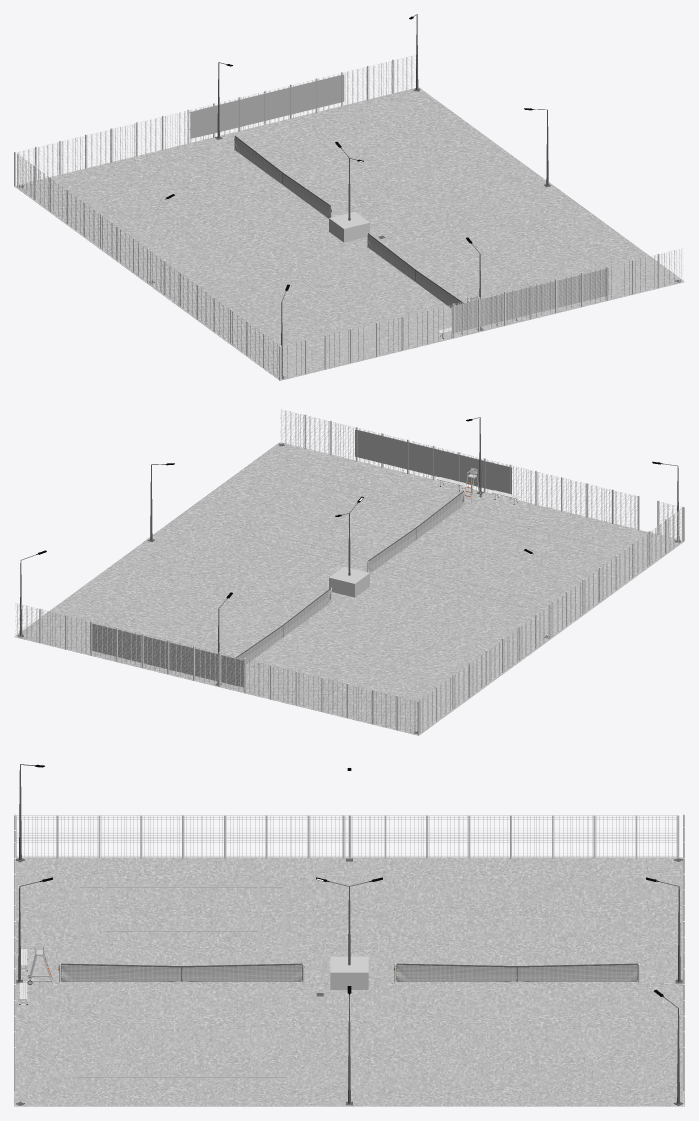
The model's file is tennis-court.gltf.
The picture shows the model from 3 angles, top to bottom: view 1: azimuth 30°, elevation 25°; view 2: azimuth 150°, elevation 25°; view 3: azimuth 270°, elevation 25°; orthographic projection. The views are drawn at different scales.
Visible parts, largest first — view 1: Plane.005, Plane.001, Cube.009, Cube.008, Plane.009, Plane.010, Cube.011, Cube.012, Plane.004, Cube.017, Cube.006, Cube.004 (+8 smaller); view 2: Plane.001, Plane.005, Cube.012, Plane.010, Plane.009, Cube.011, Plane.004, Cube.009, Cube.008, Cube.017, Cube.006, Cube.004 (+8 smaller); view 3: Plane.005, Plane.001, Cube.016, Cube.004, NurbsPath.001, NurbsPath.005, Plane.004, Cube.006, Cube.017, Center Lamppost, Cube.015, Cube.014 (+1 smaller).
Boxes of the visible parts, x1=… form: Plane.005: x1=14, y1=87, x2=551, y2=283; Plane.001: x1=147, y1=182, x2=684, y2=380; Cube.009: x1=329, y1=249, x2=681, y2=366; Cube.008: x1=327, y1=248, x2=683, y2=367; Plane.009: x1=190, y1=74, x2=344, y2=138; Plane.010: x1=451, y1=268, x2=608, y2=333; Cube.011: x1=61, y1=55, x2=418, y2=173; Cube.012: x1=62, y1=55, x2=416, y2=174; Plane.004: x1=219, y1=214, x2=611, y2=350; Cube.017: x1=20, y1=156, x2=146, y2=281; Cube.006: x1=150, y1=252, x2=277, y2=377; Cube.004: x1=148, y1=250, x2=279, y2=377; Plane.001: x1=144, y1=442, x2=684, y2=638; Plane.005: x1=14, y1=539, x2=551, y2=735; Cube.012: x1=17, y1=604, x2=371, y2=722; Plane.010: x1=355, y1=429, x2=511, y2=494; Plane.009: x1=90, y1=623, x2=243, y2=687; Cube.011: x1=15, y1=603, x2=371, y2=722; Plane.004: x1=219, y1=472, x2=612, y2=608; Cube.009: x1=281, y1=410, x2=635, y2=528; Cube.008: x1=280, y1=409, x2=637, y2=528; Cube.017: x1=422, y1=604, x2=552, y2=731; Cube.006: x1=552, y1=508, x2=682, y2=636; Cube.004: x1=551, y1=508, x2=682, y2=635; Plane.005: x1=349, y1=857, x2=684, y2=1106; Plane.001: x1=14, y1=857, x2=354, y2=1106; Cube.016: x1=346, y1=815, x2=676, y2=856; Cube.004: x1=17, y1=815, x2=348, y2=856; NurbsPath.001: x1=61, y1=964, x2=302, y2=981; NurbsPath.005: x1=396, y1=964, x2=637, y2=981; Plane.004: x1=77, y1=886, x2=285, y2=1077; Cube.006: x1=24, y1=816, x2=348, y2=857; Cube.017: x1=345, y1=816, x2=676, y2=857; Center Lamppost: x1=330, y1=956, x2=368, y2=989; Cube.015: x1=342, y1=815, x2=679, y2=858; Cube.014: x1=15, y1=815, x2=351, y2=858.
Size of the model in its own units: 30.99 by 7.03 by 35.25.
